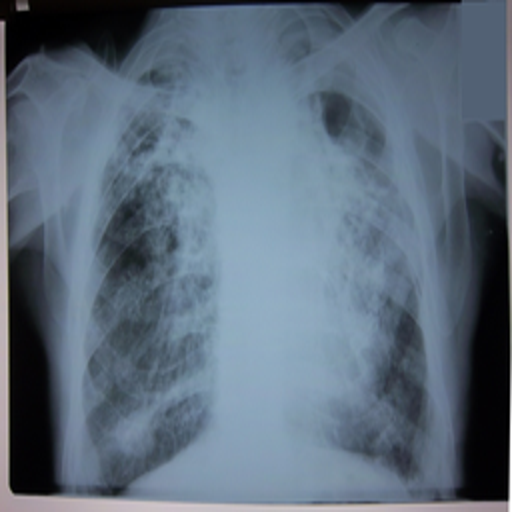TB: (100, 85, 210, 451), (313, 100, 411, 419)
